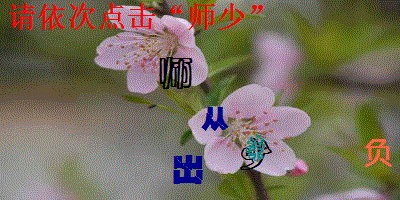text: (157, 55, 194, 90), (239, 138, 274, 172), (171, 154, 205, 186), (363, 137, 394, 169), (201, 105, 230, 133), (245, 135, 267, 162)
